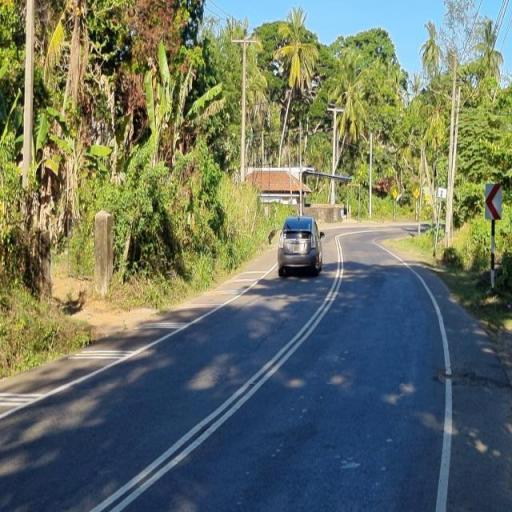double_white_line: (88, 229, 347, 512)
